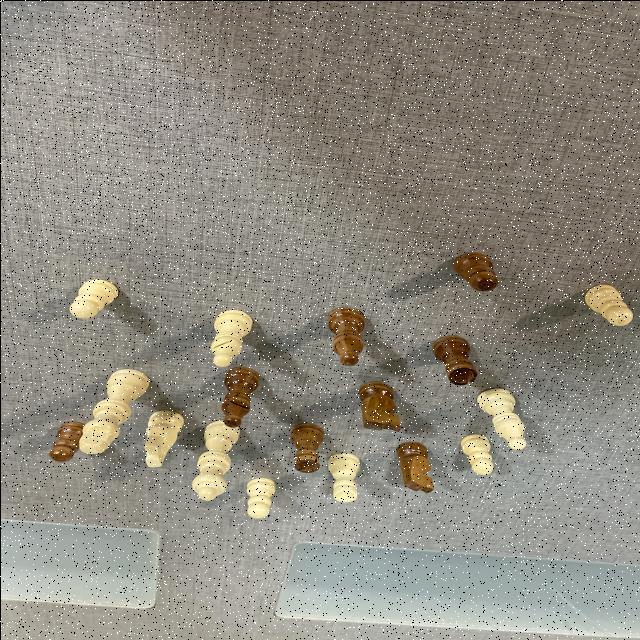Black-Bishop: (328, 306, 367, 364), (220, 368, 256, 428)
Black-Knight: (358, 382, 398, 430), (401, 440, 431, 494)
Black-Pawn: (44, 422, 84, 462), (452, 254, 494, 292)
Black-Rook: (436, 336, 474, 386), (288, 424, 322, 474)
White-Bishop: (475, 385, 527, 450), (205, 310, 252, 369)
White-King: (74, 366, 148, 454)
White-Knight: (137, 409, 180, 467)
White-Pawn: (63, 278, 120, 319), (584, 280, 634, 326), (460, 432, 494, 474), (242, 476, 276, 516)
White-Queen: (192, 418, 238, 500)
White-Rook: (329, 451, 358, 503)
